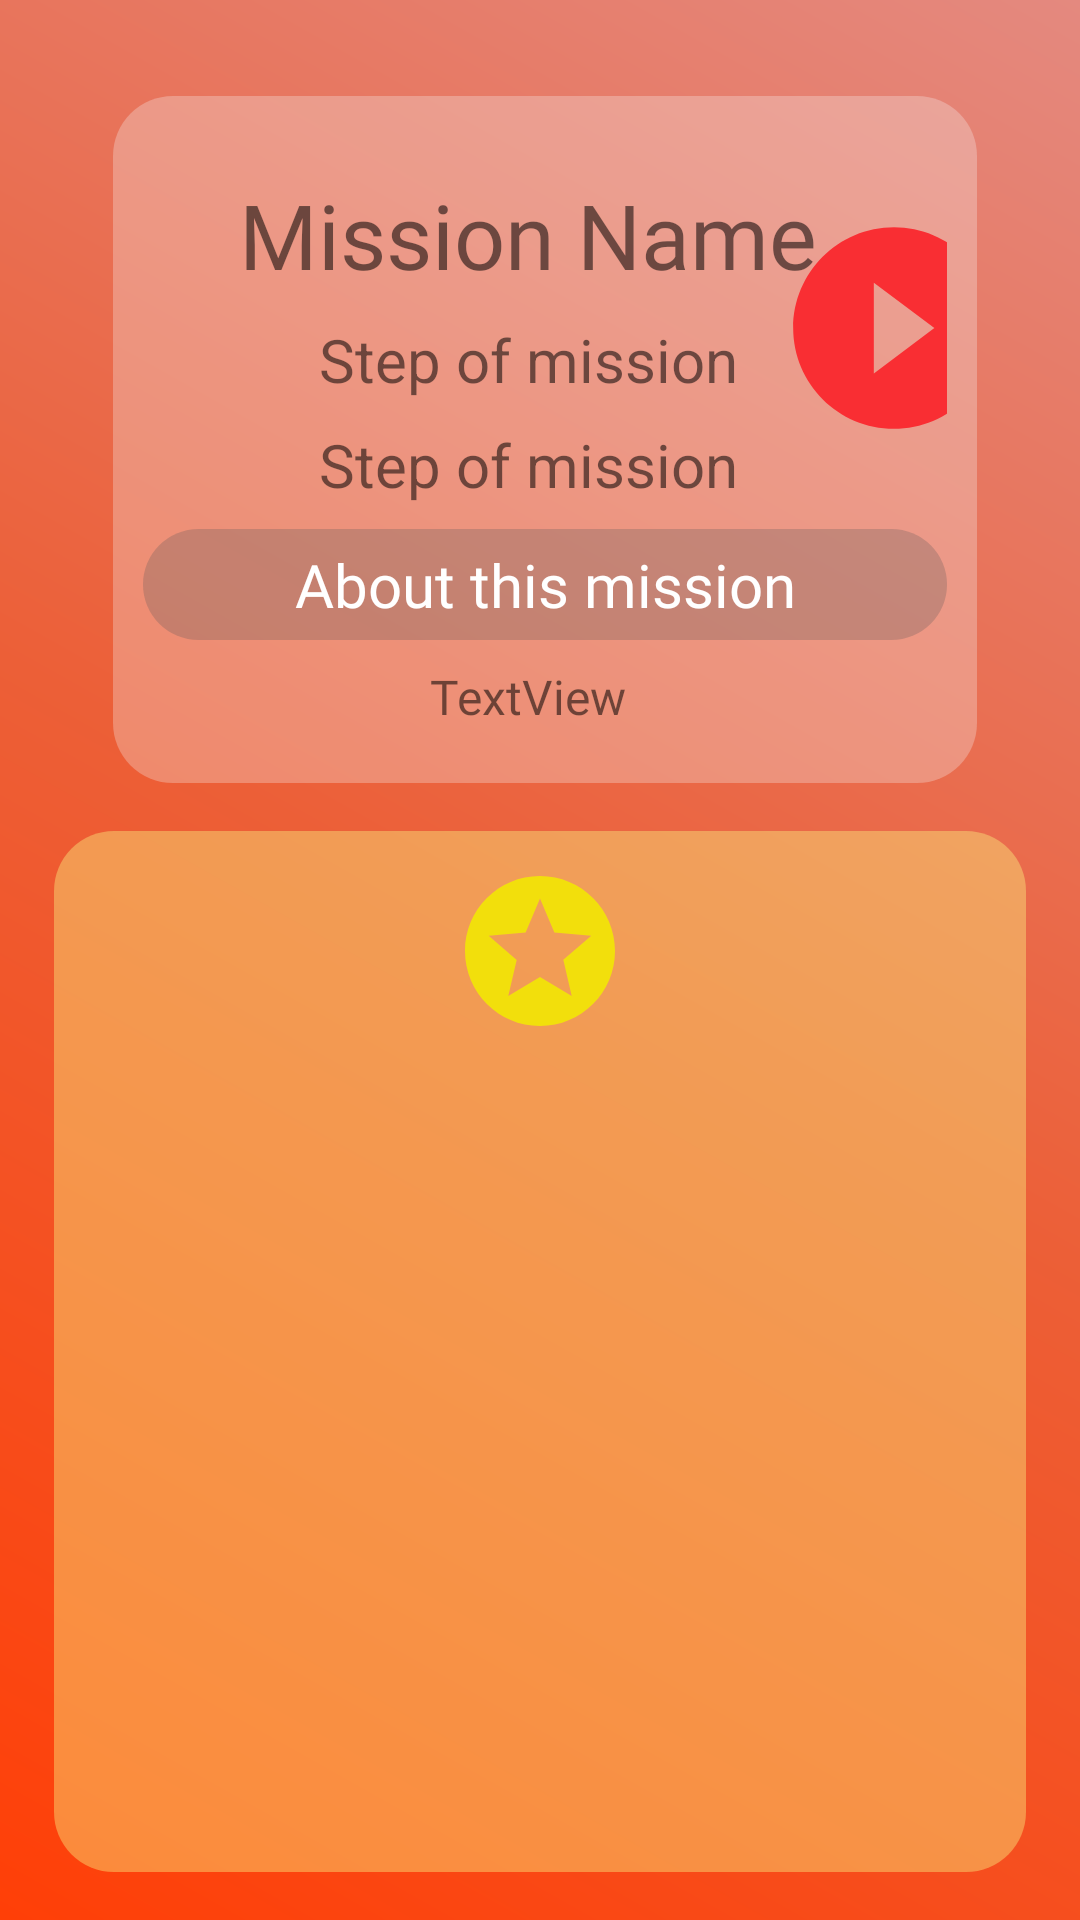

Where to tap for icons on this 1080 x 1920 app screen, as (x,y):
star: (540,951)
